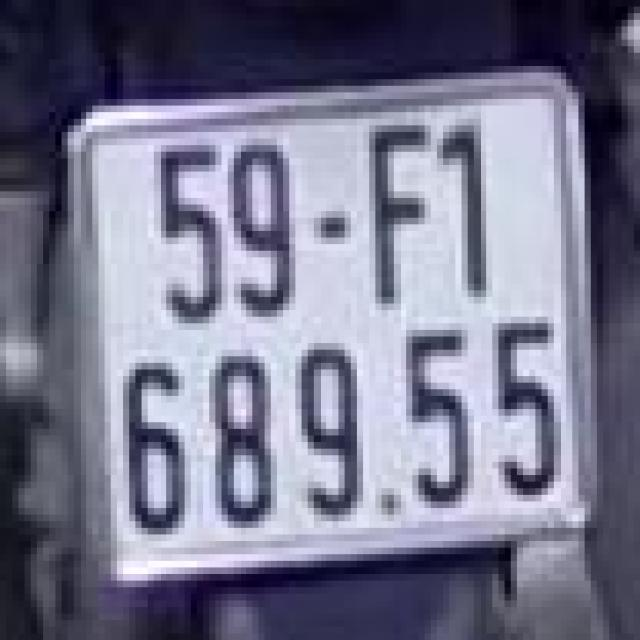1: (434, 106, 514, 310)
5: (388, 323, 486, 528), (141, 119, 234, 330), (477, 300, 569, 498)
6: (114, 327, 200, 538)
8: (200, 350, 298, 541)
9: (224, 129, 310, 320), (290, 330, 376, 521)
F: (357, 112, 437, 310)
